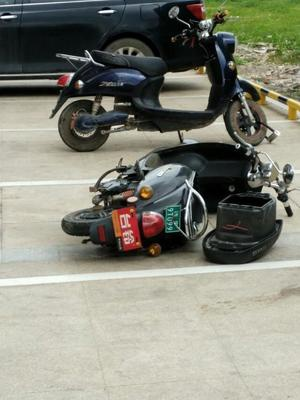non-vehicle: (49, 8, 272, 146), (68, 140, 292, 261)
